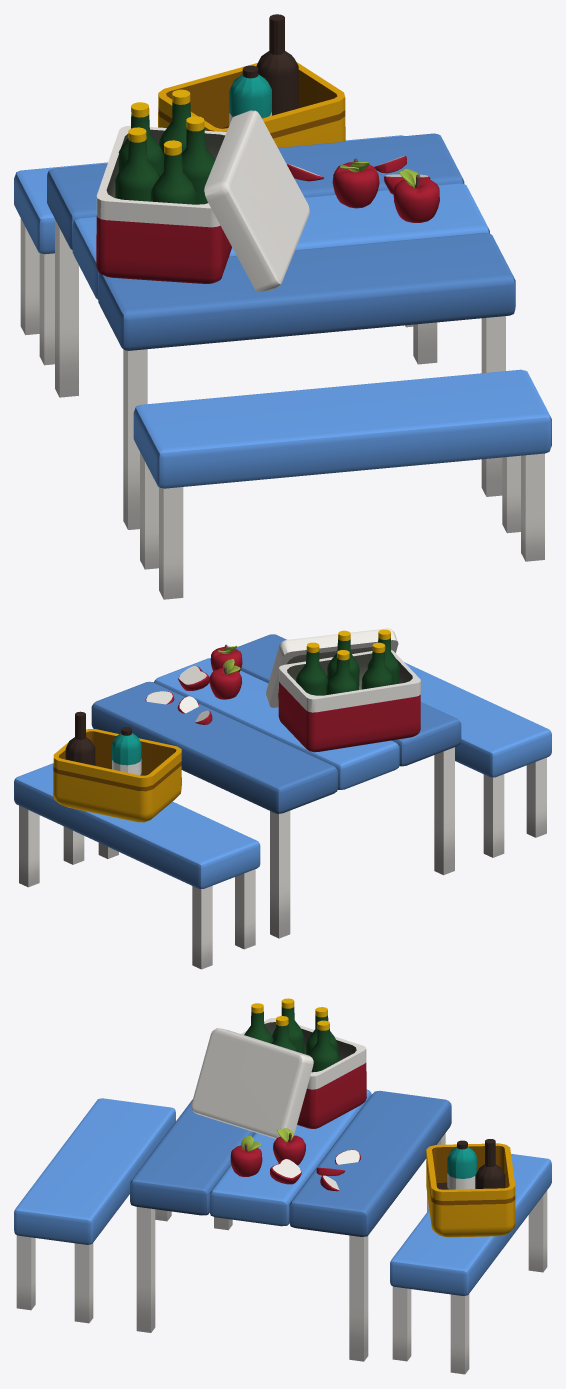
The model's file is Table _setup.fbx.
3 views of the same model, one above another, from view 1: azimuth 30°, elevation 25°; view 2: azimuth 150°, elevation 25°; view 3: azimuth 270°, elevation 25° (orthographic). The views are drawn at different scales.
Visible parts, largest first — view 1: Apple_whole_01; view 2: Apple_whole_01; view 3: Apple_whole_01.
Part boxes in pixels (x1,y1,x2,y2): Apple_whole_01: (14, 14, 551, 599); Apple_whole_01: (14, 628, 551, 969); Apple_whole_01: (14, 998, 551, 1374).
Bounding box in the file's own units: 4.09 × 2.67 × 5.34.
